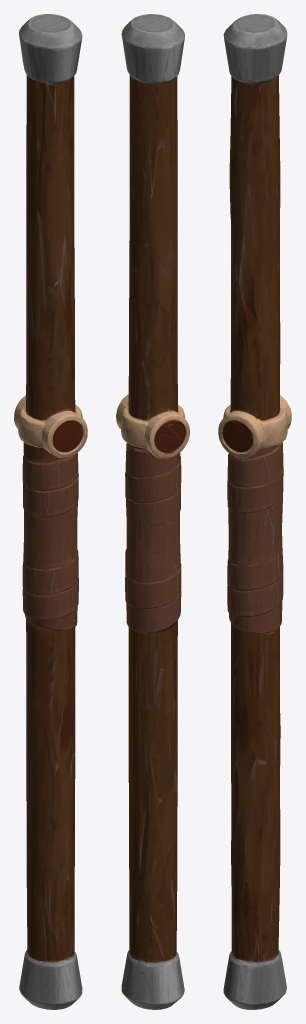
File: quarterstaff.glb
3 views of the same model, side by side, from view 1: azimuth 30°, elevation 25°; view 2: azimuth 210°, elevation 25°; view 3: azimuth 330°, elevation 25° (orthographic).
Size of the model in its own units: 0.1147 by 1.9 by 0.125.
1 material, 1 textured.
